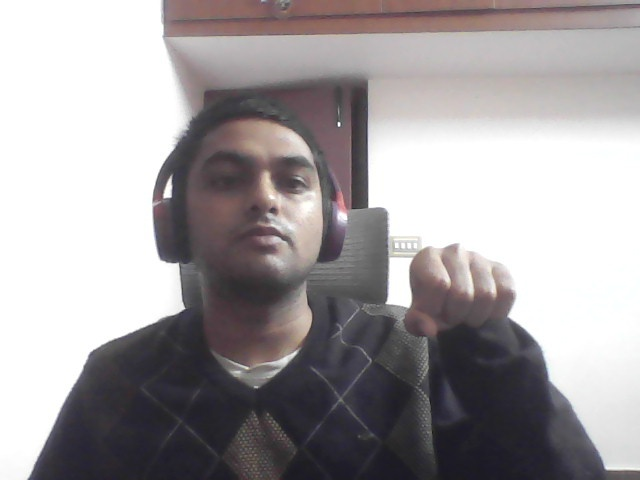Yes: (379, 214, 533, 381)
